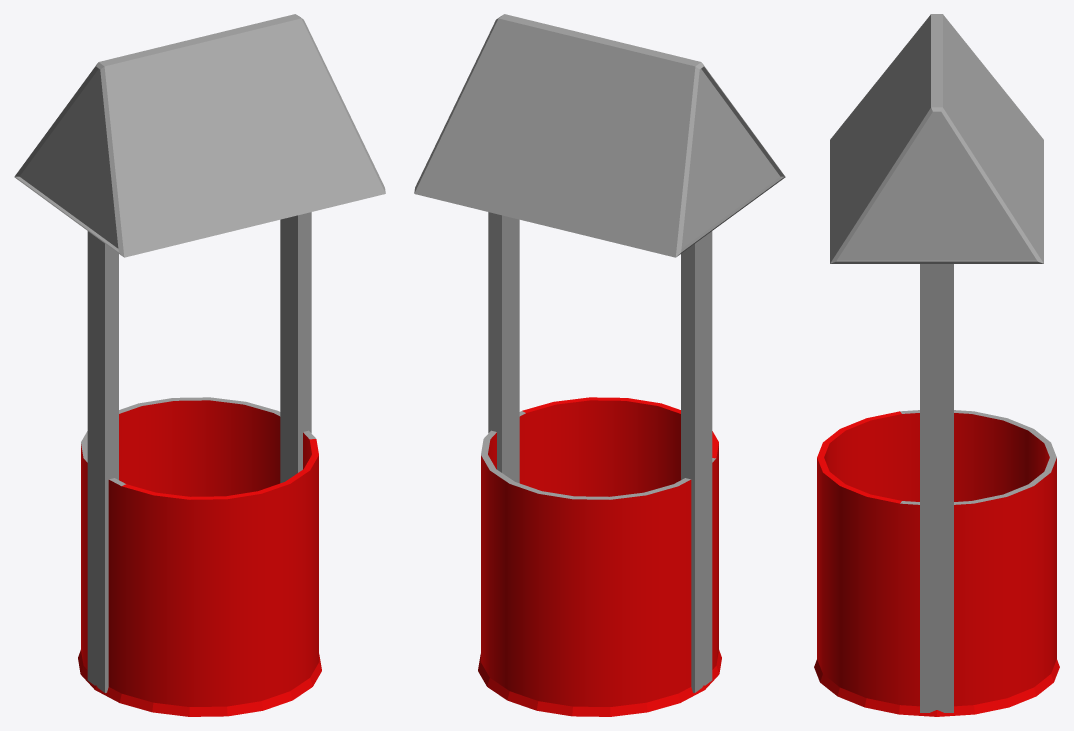
The model's file is well.fbx.
3 views of the same model, side by side, from view 1: azimuth 30°, elevation 25°; view 2: azimuth 150°, elevation 25°; view 3: azimuth 270°, elevation 25° (orthographic). The views are drawn at different scales.
Parts seen in each view (by area): view 1: well1; view 2: well1; view 3: well1.
Boxes of the visible parts, x1,y1,x2,y2 form: well1: [14, 14, 385, 716]; well1: [414, 14, 785, 716]; well1: [814, 14, 1059, 716].
Bounding box in the file's own units: 5.8 × 12.99 × 4.77.
